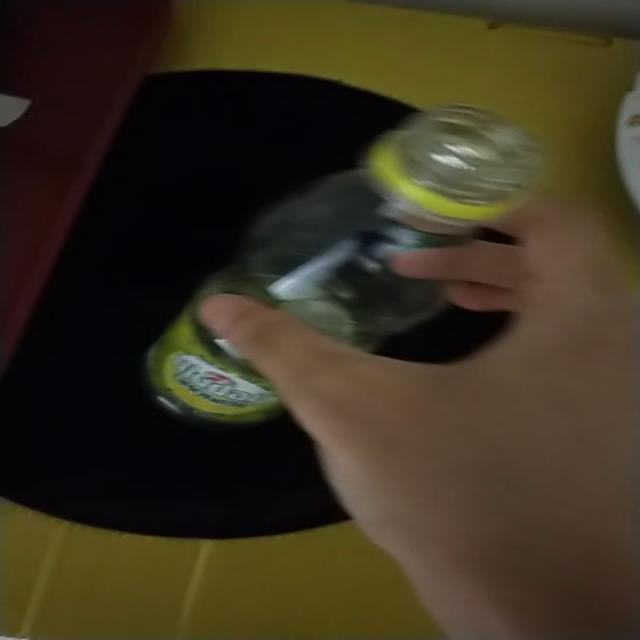Plastic: (199, 105, 544, 351), (147, 301, 280, 424)
